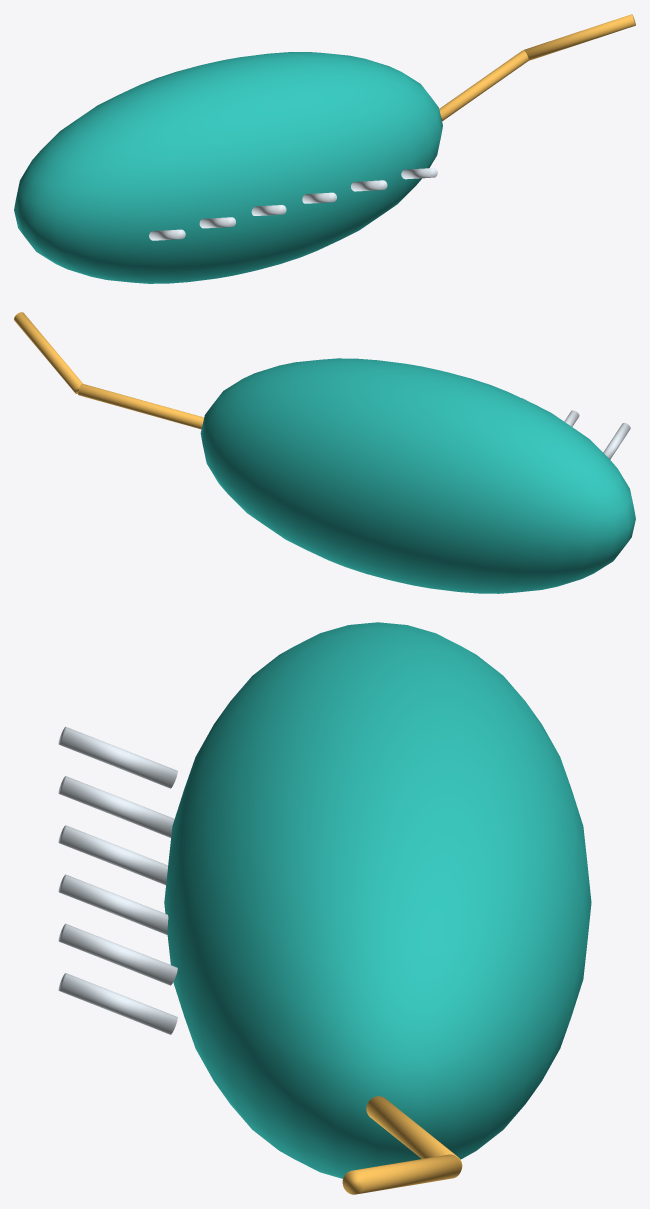
The model's file is bacterium-quality.glb.
3 renders of one model, top to bottom at view 1: azimuth 30°, elevation 25°; view 2: azimuth 150°, elevation 25°; view 3: azimuth 270°, elevation 25°, orthographic. The views are drawn at different scales.
Visible parts, largest first — view 1: Schematic bacterium; view 2: Schematic bacterium; view 3: Schematic bacterium.
Part boxes in pixels (x1,y1,x2,y2): Schematic bacterium: [14, 14, 635, 283]; Schematic bacterium: [14, 312, 635, 593]; Schematic bacterium: [58, 622, 591, 1194].
Size of the model in its own units: 2.9 by 0.88 by 1.1.
